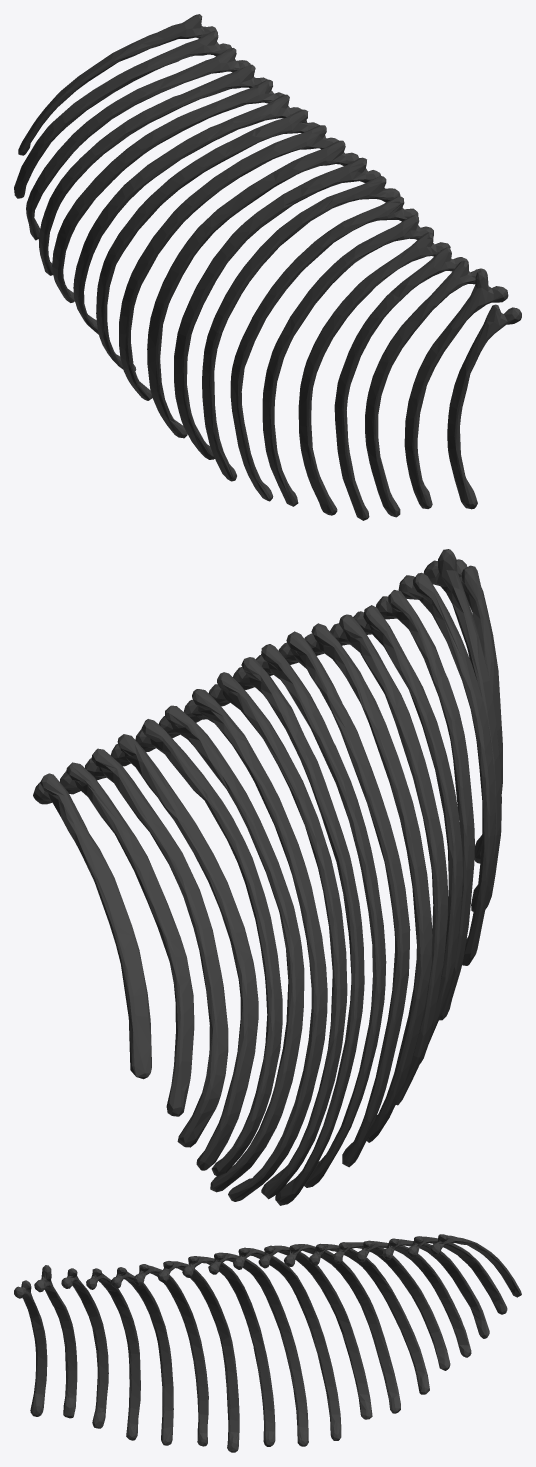
Rendered from Ribs_R.glb.
3 views of the same model, one above another, from view 1: azimuth 30°, elevation 25°; view 2: azimuth 150°, elevation 25°; view 3: azimuth 270°, elevation 25° (orthographic). The views are drawn at different scales.
Parts seen in each view (by area): view 1: Ribs_R; view 2: Ribs_R; view 3: Ribs_R.
Part boxes in pixels (x1=…): Ribs_R: x1=14, y1=14, x2=521, y2=520; Ribs_R: x1=33, y1=549, x2=502, y2=1205; Ribs_R: x1=14, y1=1234, x2=521, y2=1452.
Size of the model in its own units: 0.286 by 0.5744 by 1.08.
Materials: 1 (1 with a texture image).
